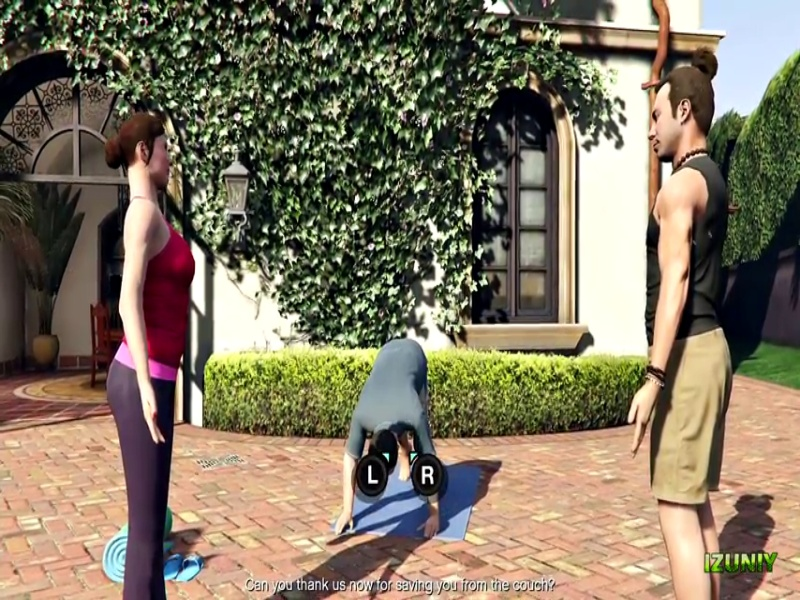human: (95, 112, 200, 600)
